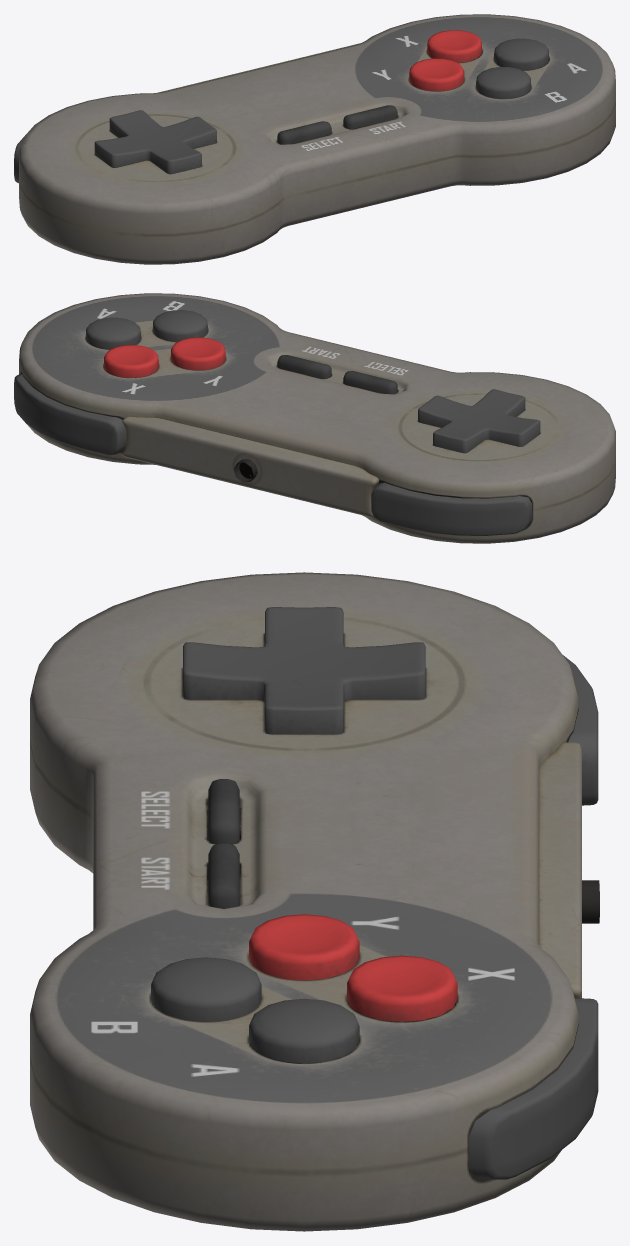
File: gamepad.glb
3 views of the same model, one above another, from view 1: azimuth 30°, elevation 25°; view 2: azimuth 150°, elevation 25°; view 3: azimuth 270°, elevation 25° (orthographic). The views are drawn at different scales.
Visible parts, largest first — view 1: gamepad; view 2: gamepad; view 3: gamepad.
Part boxes in pixels (x1,y1,x2,y2): gamepad: [14, 14, 615, 264]; gamepad: [14, 293, 615, 543]; gamepad: [30, 572, 599, 1231].
Size of the model in its own units: 0.144 by 0.0183 by 0.0634.
1 material, 1 textured.
